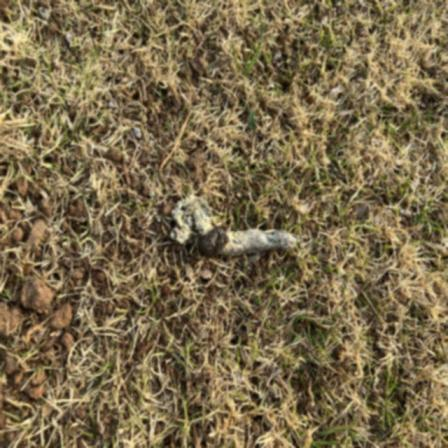dog-poop: (165, 195, 302, 264)
